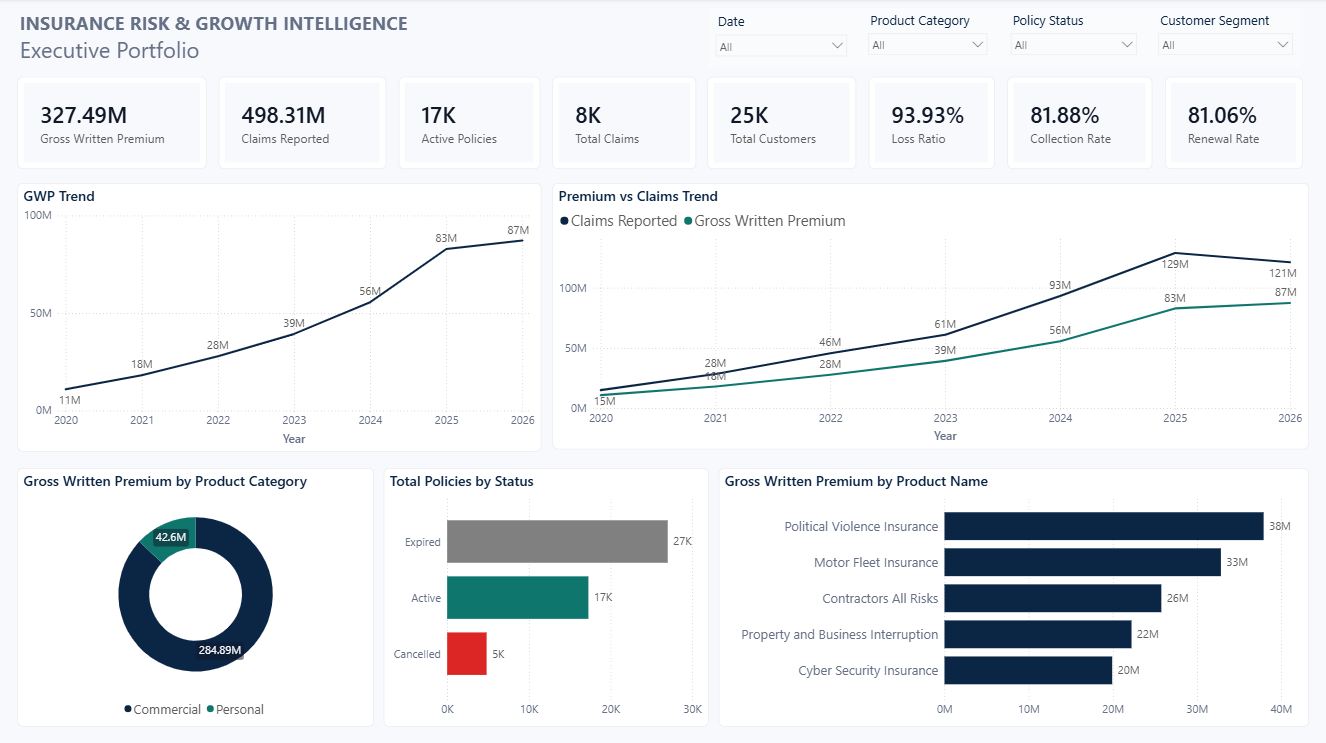

What the dashboard file says about the page in this screenshot:
{"tool":"powerbi","page":{"name":"1 - Executive Portfolio","canvas":[1920,1080],"ordinal":0},"visuals":[{"type":"slicer","title":"Product","fields":{"Values":["Product.Product Category"]},"box":[1247.7,15.4,192.6,84.1],"z":0,"group":"g3"},{"type":"cardVisual","fields":{"Data":["_Measures.Gross Written Premium"]},"box":[25.3,114,273.3,133.9],"z":0},{"type":"textbox","box":[23.5,12.7,613.5,101.3],"z":1000},{"type":"slicer","fields":{"Values":["Date.Year"]},"box":[1026.1,15.5,210.2,84.1],"z":1000,"group":"g3"},{"type":"lineChart","title":"GWP Trend","fields":{"Y":["_Measures.Gross Written Premium"],"Category":["Date.Year"]},"box":[25.5,267.8,758.2,389.1],"z":1000,"group":"g1"},{"type":"slicer","title":"Policy Status","fields":{"Values":["Policy.Policy Status"]},"box":[1452.5,14.6,202.7,83.1],"z":2000,"group":"g3"},{"type":"cardVisual","fields":{"Data":["_Measures.Active Policies"]},"box":[576.8,114,204.5,133.9],"z":2000},{"type":"slicer","title":"Customer Segment","fields":{"Values":["Customer.Customer Segment"]},"box":[1667.5,14.5,214.6,84.1],"z":3000,"group":"g3"},{"type":"group","id":"g1","title":"Group 2","box":[25.5,267.8,1869,389.1],"z":3000},{"type":"cardVisual","fields":{"Data":["_Measures.Collection Rate"]},"box":[1458.8,114,209.9,133.9],"z":4000},{"type":"group","id":"g2","title":"Group 3","box":[25.3,680.4,1869.4,376.4],"z":4000},{"type":"group","id":"g3","title":"Group 4","box":[1026.1,14.5,856,85.1],"z":5000},{"type":"lineChart","title":"Premium vs Claims Trend","fields":{"Category":["Date.Calendar.Year","Date.Calendar.Quarter","Date.Calendar.Month","Date.Calendar.Date"],"Y":["_Measures.Total Claim Amount","_Measures.Gross Written Premium"]},"box":[799.7,268.2,1094.8,385.5],"z":5000,"group":"g1"},{"type":"donutChart","fields":{"Category":["Product.Product Category"],"Y":["_Measures.Gross Written Premium"]},"box":[25.3,680.4,516,374.7],"z":7000,"group":"g2"},{"type":"cardVisual","fields":{"Data":["_Measures.Loss Ratio"]},"box":[1258.2,114,182.8,133.9],"z":8000},{"type":"barChart","title":"Total Policies by Status","fields":{"Category":["Policy.Policy Status"],"Y":["CountNonNull(Policy.Policy ID)"]},"box":[555.3,680.4,470,374.7],"z":9000,"group":"g2"},{"type":"cardVisual","fields":{"Data":["_Measures.Renewal Rate"]},"box":[1686.6,114,199.1,133.9],"z":10000},{"type":"barChart","fields":{"Category":["Product.Product Name"],"Y":["_Measures.Gross Written Premium"]},"box":[1041.3,680.4,854,374.7],"z":11000,"group":"g2"},{"type":"cardVisual","fields":{"Data":["_Measures.Total Claim Amount"]},"box":[316.4,114,242.5,133.9],"z":12000},{"type":"cardVisual","fields":{"Data":["_Measures.Total Claims"]},"box":[799.1,114,208.1,133.9],"z":14000},{"type":"cardVisual","fields":{"Data":["_Measures.Total Customers"]},"box":[1025,114,215.3,133.9],"z":16000}]}

Visuals, with their boxes in screenshot pixels (x1, y1, x2, y2), scaled from the page's 1920x1080 canvas onto the 1326x743 screenshot:
"Product" slicer: x1=862 y1=11 x2=995 y2=68
cardVisual - _Measures.Gross Written Premium: x1=17 y1=78 x2=206 y2=171
textbox: x1=16 y1=9 x2=440 y2=78
slicer - Date.Year: x1=709 y1=11 x2=854 y2=69
"GWP Trend" lineChart: x1=18 y1=184 x2=541 y2=452
"Policy Status" slicer: x1=1003 y1=10 x2=1143 y2=67
cardVisual - _Measures.Active Policies: x1=398 y1=78 x2=540 y2=171
"Customer Segment" slicer: x1=1152 y1=10 x2=1300 y2=68
"Group 2" group: x1=18 y1=184 x2=1308 y2=452
cardVisual - _Measures.Collection Rate: x1=1007 y1=78 x2=1152 y2=171
"Group 3" group: x1=17 y1=468 x2=1309 y2=727
"Group 4" group: x1=709 y1=10 x2=1300 y2=69
"Premium vs Claims Trend" lineChart: x1=552 y1=185 x2=1308 y2=450
donutChart - Product.Product Category x _Measures.Gross Written Premium: x1=17 y1=468 x2=374 y2=726
cardVisual - _Measures.Loss Ratio: x1=869 y1=78 x2=995 y2=171
"Total Policies by Status" barChart: x1=384 y1=468 x2=708 y2=726
cardVisual - _Measures.Renewal Rate: x1=1165 y1=78 x2=1302 y2=171
barChart - Product.Product Name x _Measures.Gross Written Premium: x1=719 y1=468 x2=1309 y2=726
cardVisual - _Measures.Total Claim Amount: x1=219 y1=78 x2=386 y2=171
cardVisual - _Measures.Total Claims: x1=552 y1=78 x2=696 y2=171
cardVisual - _Measures.Total Customers: x1=708 y1=78 x2=857 y2=171
